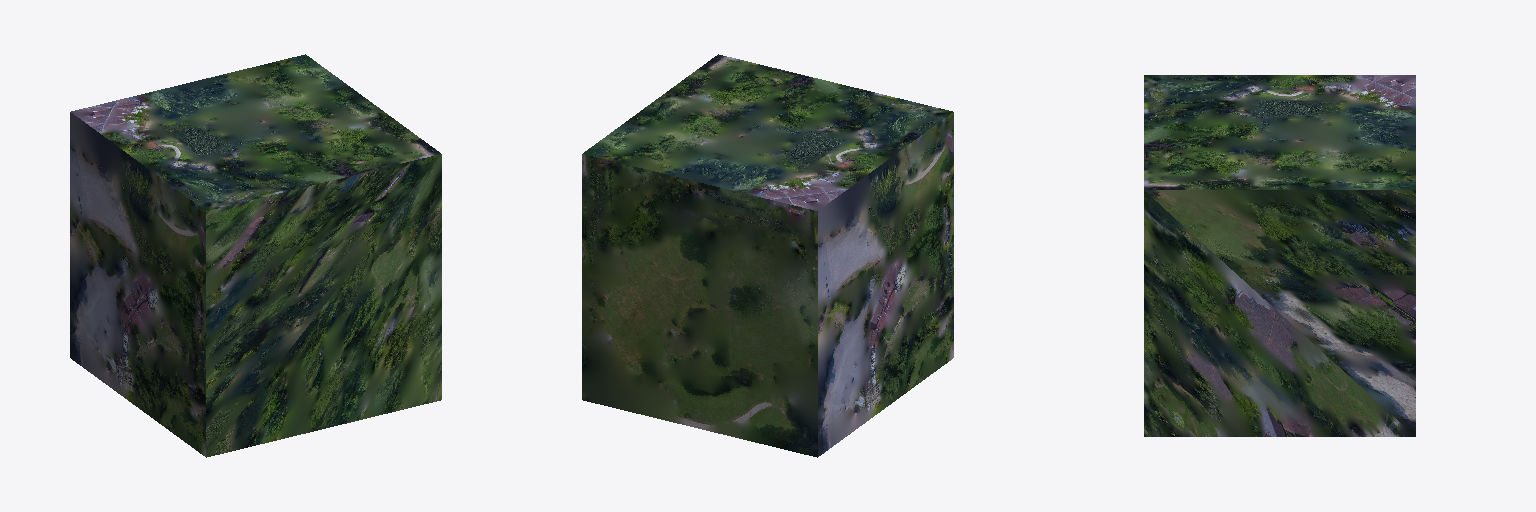
The picture shows the model from 3 angles: view 1: azimuth 30°, elevation 25°; view 2: azimuth 150°, elevation 25°; view 3: azimuth 270°, elevation 25°; orthographic projection.
Parts seen in each view (by area): view 1: cube; view 2: cube; view 3: cube.
Boxes of the visible parts, <box> form: cube: <box>70,54,441,457</box>; cube: <box>582,54,953,457</box>; cube: <box>1144,75,1415,436</box>.
Size of the model in its own units: 2 by 2 by 2.
Materials: 6 (6 with a texture image).